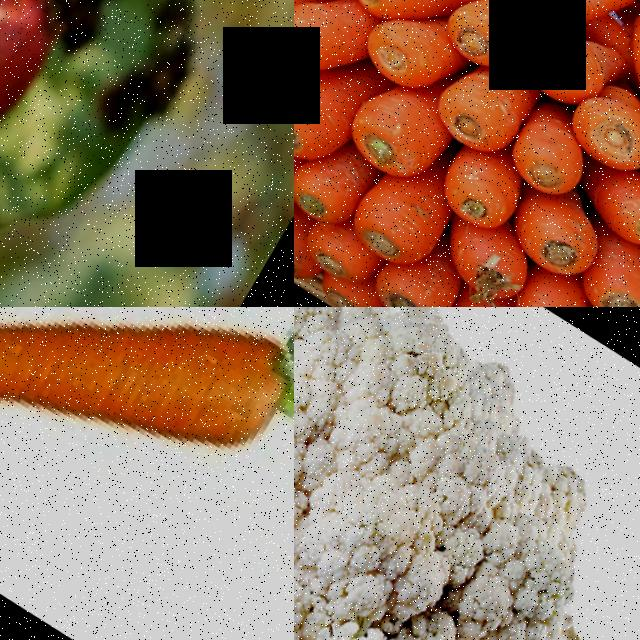carrot: (0, 307, 294, 640), (334, 81, 455, 199), (432, 0, 565, 87), (347, 178, 455, 277), (432, 131, 532, 232), (498, 111, 600, 210), (444, 216, 543, 307), (435, 71, 531, 162), (294, 0, 385, 96), (351, 9, 453, 94), (525, 9, 609, 106), (307, 217, 401, 303), (294, 72, 363, 182), (366, 239, 464, 307), (564, 222, 640, 307), (574, 82, 640, 169), (588, 161, 640, 245), (365, 0, 471, 40), (510, 267, 611, 307), (447, 294, 525, 307)
cauliflower: (294, 307, 640, 640)
